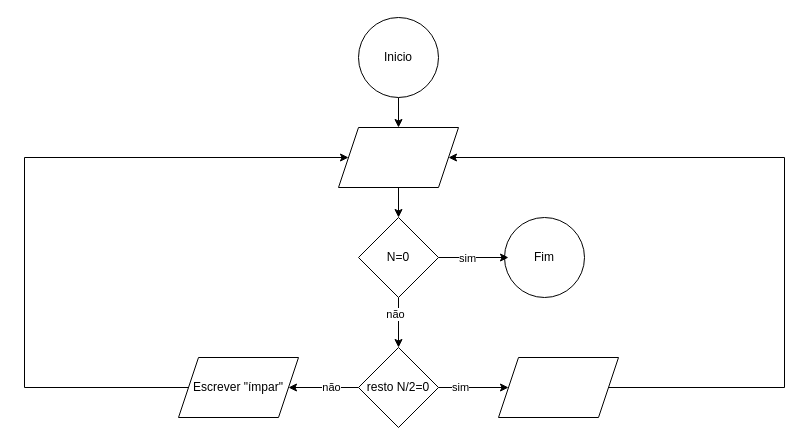
Some shapes in this 810 by 445 pixel diagram are drawn without their labels. The shapes that lost their labels are listed below. From the top down, each one's centre as x and y in pixels, then its label:
(398,157): Ler N
(558,387): Escrever "par"
